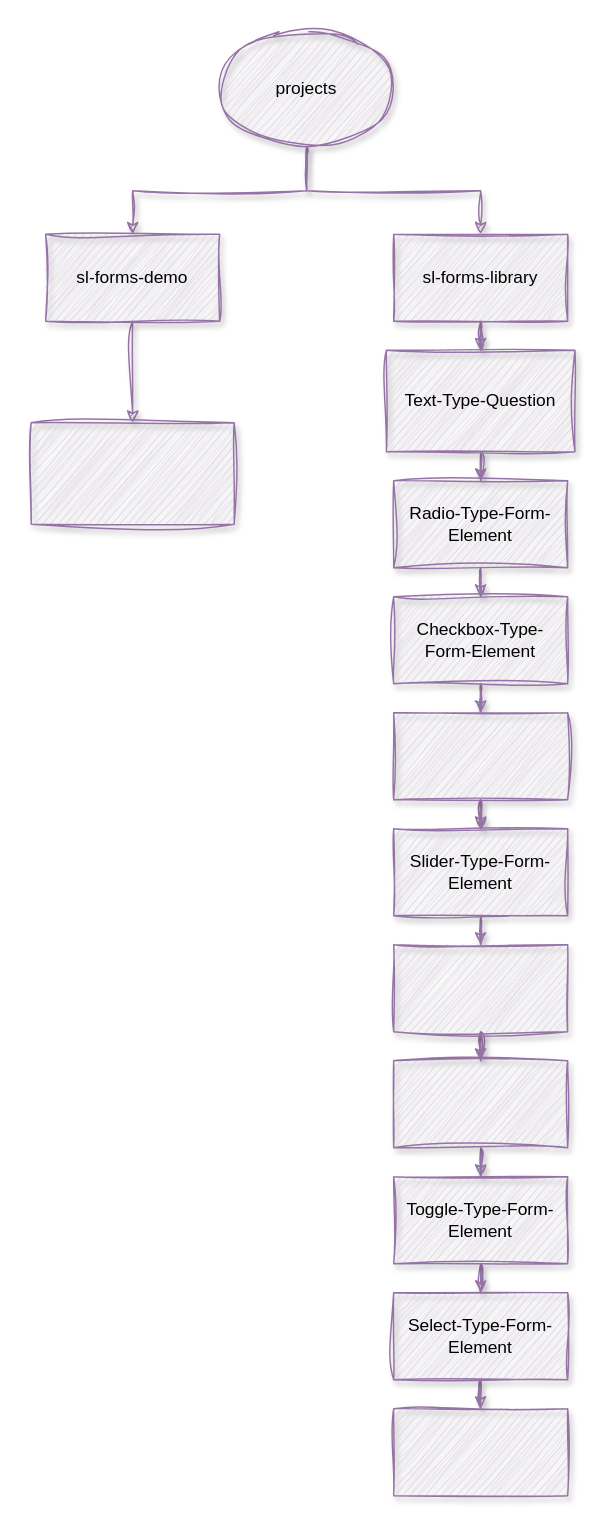
This 609x1531 diagram has some shape labels left out. Each missing label, with the centre of its shape:
Chip-Type-Form-Element: (481,757)
Data-Type-Form-Element: (481,989)
FormDemoComponent: (133,474)
Rating-Type-Form-Element: (481,1453)
Text-Type-Form-Element: (481,1105)
